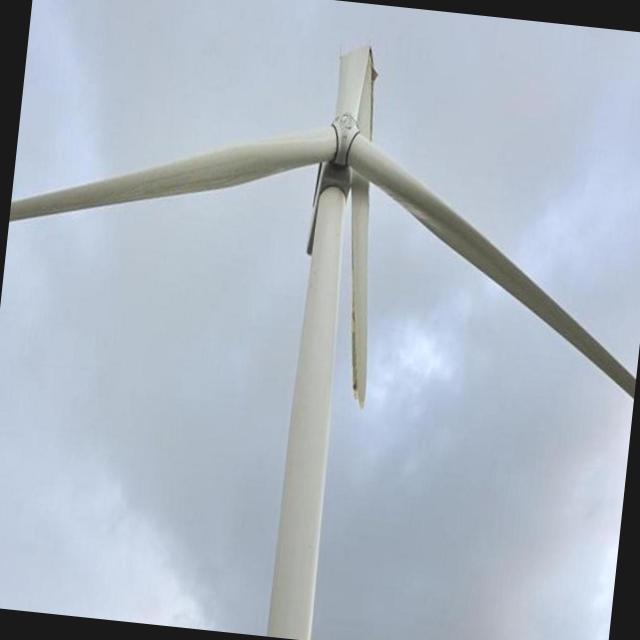crack: (293, 37, 415, 418)
